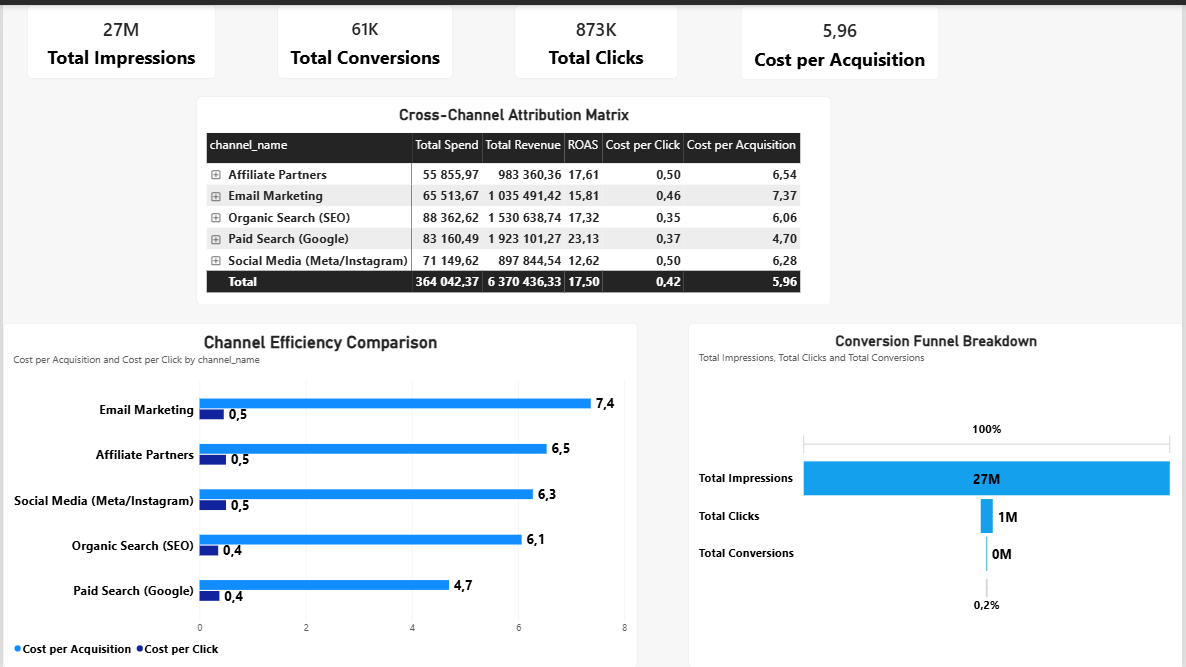

Layout of this report page (visuals, bound fields, positions):
{"tool":"powerbi","page":{"name":"Conversion Funnel & Cross-Channel Attribution","canvas":[1920,1080],"ordinal":2},"visuals":[{"type":"card","fields":{"Values":["Fact_Campaign.Total Impressions"]},"box":[39,0,307.4,119.6],"z":0},{"type":"card","fields":{"Values":["Fact_Campaign.Total Conversions"]},"box":[446.5,0,285.5,119.6],"z":1},{"type":"card","fields":{"Values":["Fact_Campaign.Total Clicks"]},"box":[832,0,265.9,119.6],"z":2},{"type":"card","fields":{"Values":["Fact_Campaign.Cost per Acquisition"]},"box":[1200.4,2.4,322.1,119.6],"z":3},{"type":"funnel","title":" Conversion Funnel Breakdown","fields":{"Y":["Fact_Campaign.Total Impressions","Fact_Campaign.Total Clicks","Fact_Campaign.Total Conversions"]},"box":[1115,517.2,805.1,563.6],"z":4},{"type":"clusteredBarChart","title":"Channel Efficiency Comparison","fields":{"Category":["Dim_Channel.channel_name"],"Y":["Fact_Campaign.Cost per Acquisition","Fact_Campaign.Cost per Click"]},"box":[0,517.2,1032,563.6],"z":5},{"type":"pivotTable","title":"Cross-Channel Attribution Matrix","fields":{"Rows":["Dim_Channel.channel_name","Dim_Channel.channel_type"],"Values":["Fact_Campaign.Total Spend","Fact_Campaign.Total Revenue","Fact_Campaign.ROAS","Fact_Campaign.Cost per Click","Fact_Campaign.Cost per Acquisition"]},"box":[314.7,148.8,1032,339.1],"z":6}]}

Visuals, with their boxes in screenshot pixels (x1, y1, x2, y2), scaled from the page's 1920x1080 canvas onto the 1186x667 screenshot:
card - Fact_Campaign.Total Impressions: detection(24, 0, 214, 74)
card - Fact_Campaign.Total Conversions: detection(276, 0, 452, 74)
card - Fact_Campaign.Total Clicks: detection(514, 0, 678, 74)
card - Fact_Campaign.Cost per Acquisition: detection(741, 1, 940, 75)
" Conversion Funnel Breakdown" funnel: detection(689, 319, 1185, 666)
"Channel Efficiency Comparison" clusteredBarChart: detection(0, 319, 637, 666)
"Cross-Channel Attribution Matrix" pivotTable: detection(194, 92, 832, 301)
